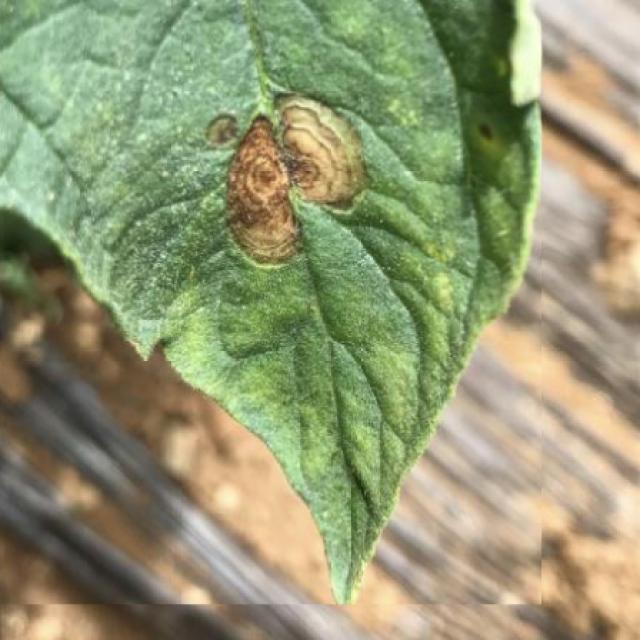Early Blight: (0, 0, 541, 604)
